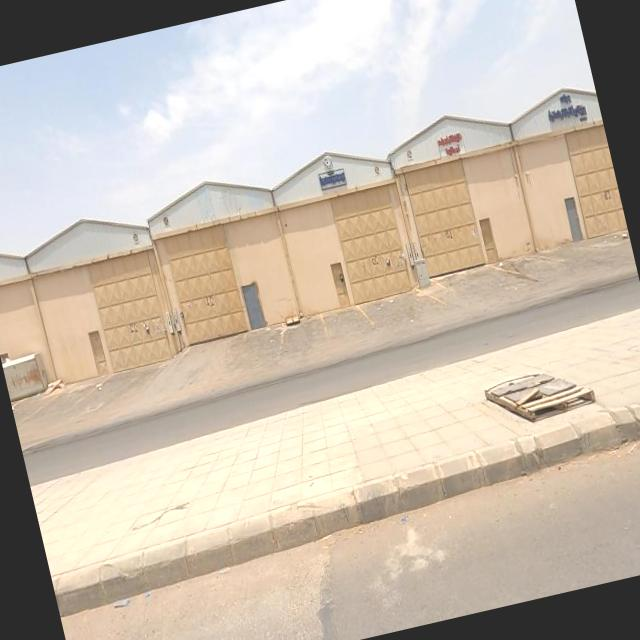debris: (444, 308, 624, 470), (252, 286, 326, 362), (27, 356, 89, 418), (486, 240, 522, 286)
